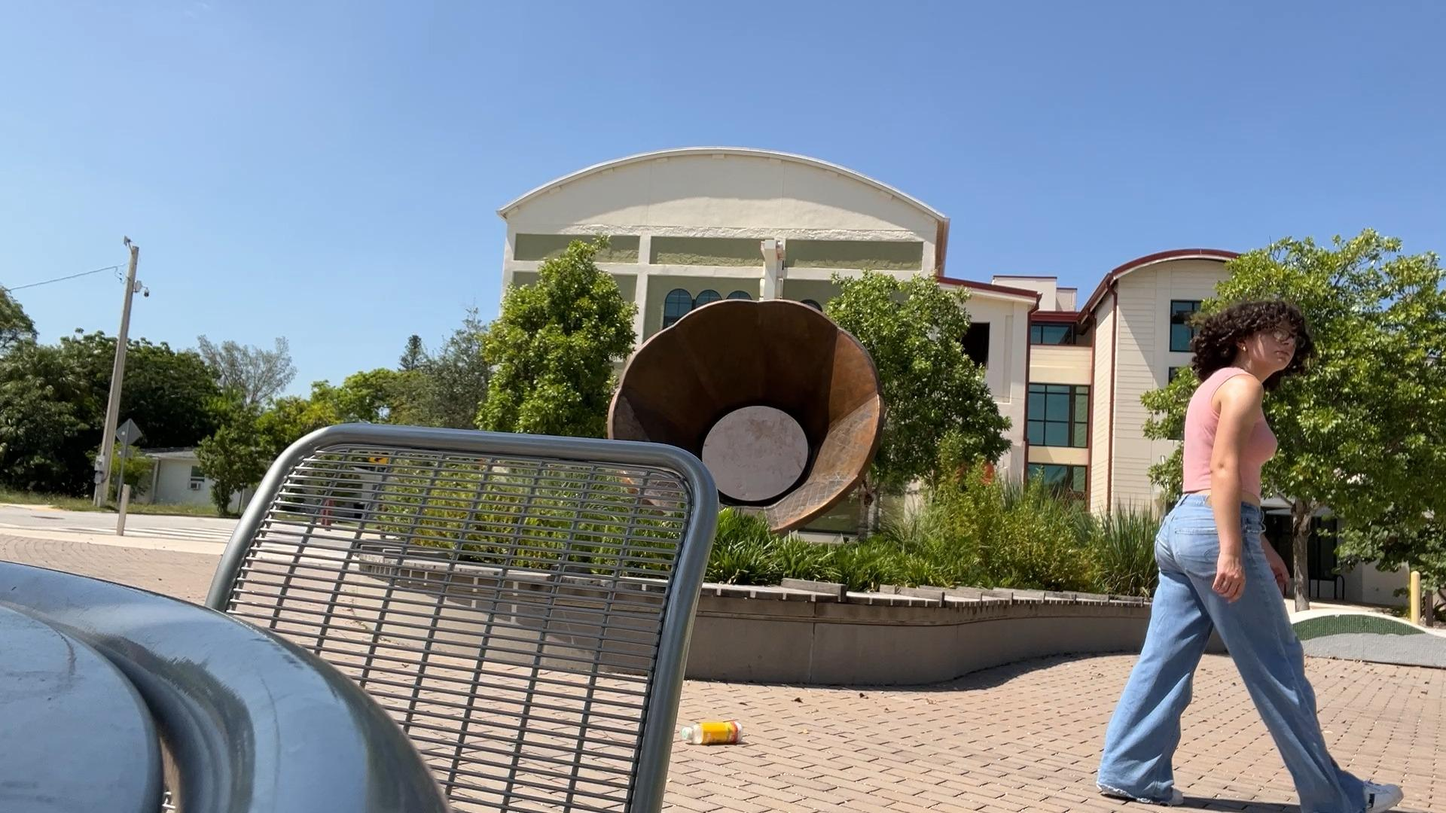Trash: (676, 712, 757, 763)
